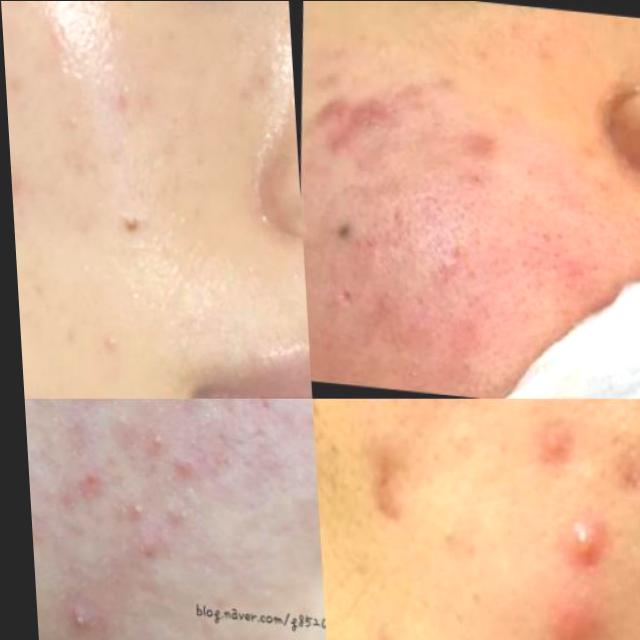8: (527, 588, 612, 640), (0, 0, 51, 26)
blackheads: (540, 501, 611, 575), (7, 155, 39, 251), (3, 62, 38, 124)
